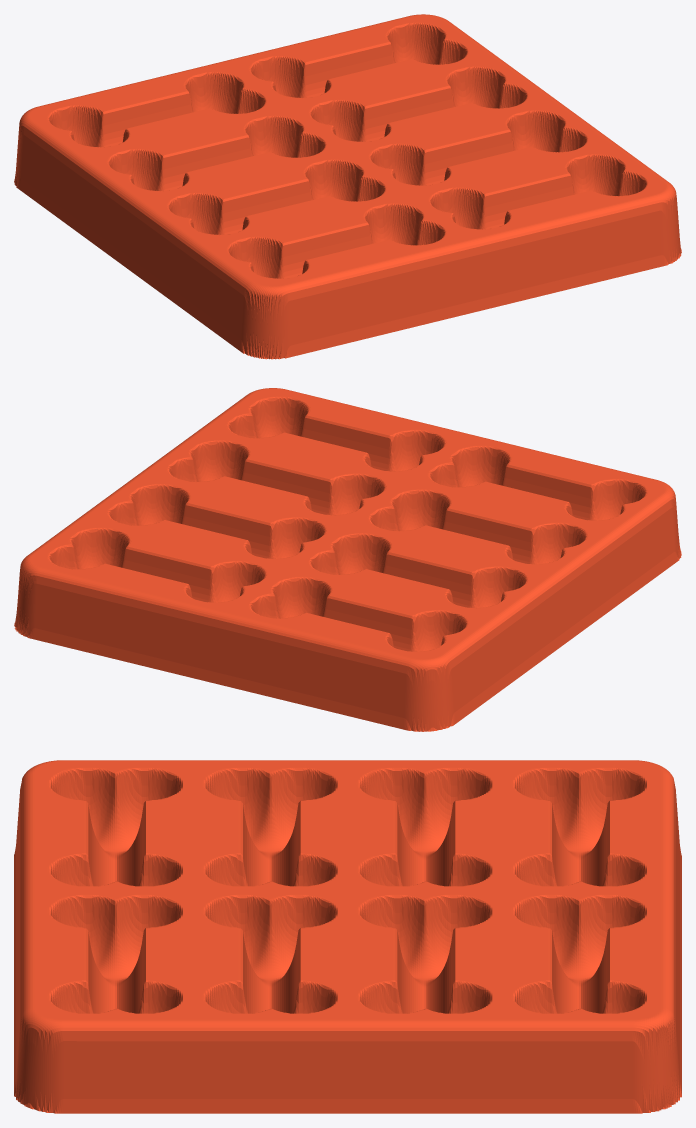
File: mold.glb
3 views of the same model, one above another, from view 1: azimuth 30°, elevation 25°; view 2: azimuth 150°, elevation 25°; view 3: azimuth 270°, elevation 25° (orthographic). The views are drawn at different scales.
Visible parts, largest first — view 1: geometry_0; view 2: geometry_0; view 3: geometry_0.
Part boxes in pixels (left/top/right/bottom): geometry_0: left=14, top=14, right=681, bottom=359; geometry_0: left=14, top=388, right=681, bottom=731; geometry_0: left=14, top=760, right=681, bottom=1113.
Size of the model in its own units: 0.1209 by 0.0175 by 0.124.
